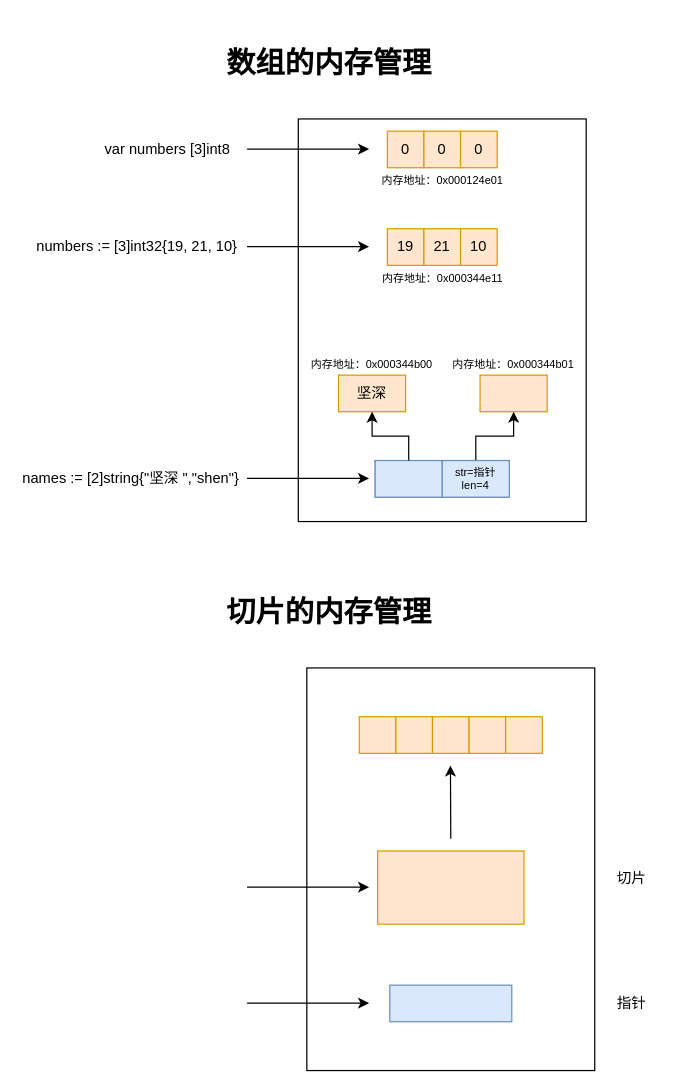
This 682x1092 diagram has some shape labels left out. Each missing label, with the centre of its shape:
"array=指针 len=长度 cap=容量" goes at (450,887).
"shen" goes at (513,393).
"str=指针 len=6" goes at (408,478).
